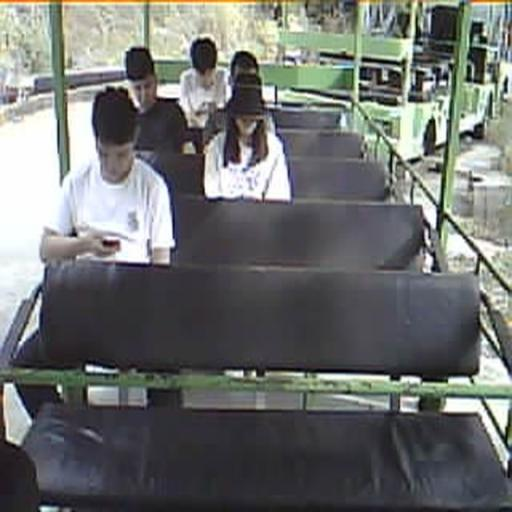persona: (39, 86, 177, 268), (202, 82, 292, 203), (122, 46, 196, 156), (202, 51, 260, 155), (178, 34, 232, 130)
